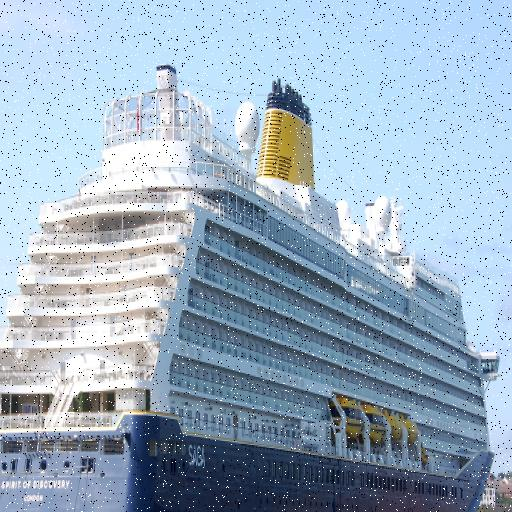cruises: (1, 31, 502, 512)
